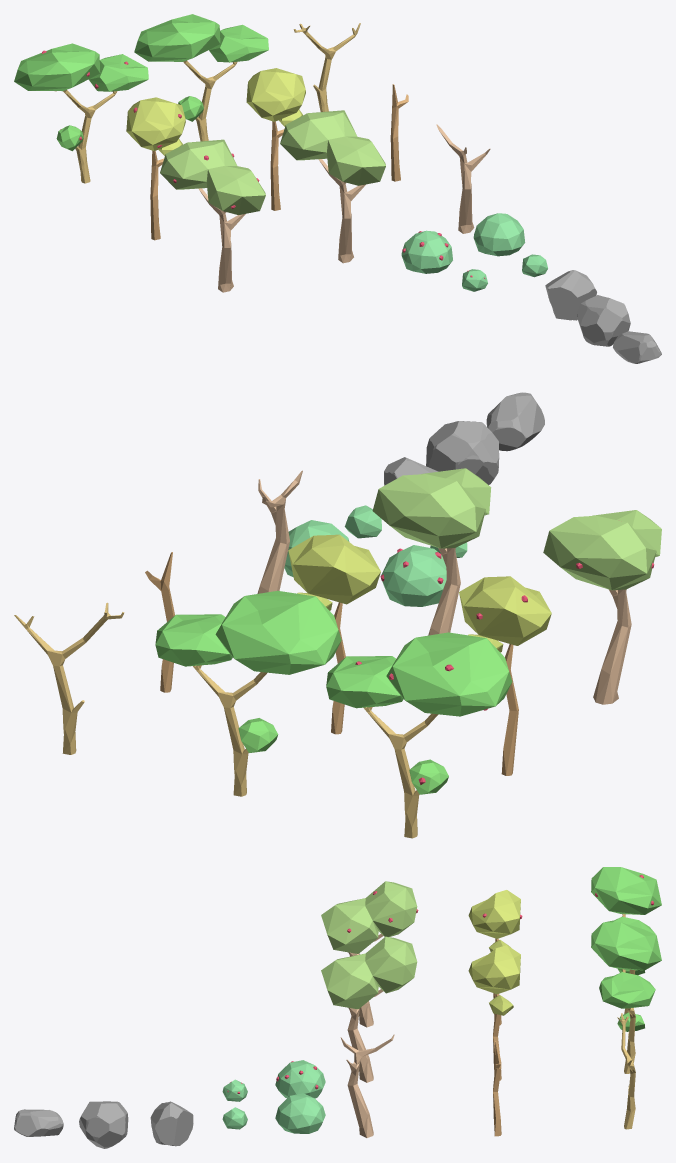
Rendered from preview.fbx.
3 views of the same model, one above another, from view 1: azimuth 30°, elevation 25°; view 2: azimuth 150°, elevation 25°; view 3: azimuth 270°, elevation 25° (orthographic). The views are drawn at different scales.
Visible parts, largest first — view 1: Tree_003_Crown_LOD0.001, Tree_003_Crown_LOD0.002, Tree_001_Crown_LOD0.002, Tree_001_Crown_LOD0.001, Tree_002_Crown_LOD0.002, Tree_002_Crown_LOD0.001, Rock_002_LOD0.001, Bush_002_LOD0.001, Bush_002_LOD0.002, Rock_001_LOD0.001, Tree_001_LOD0.003, Rock_003_LOD0.001 (+8 smaller); view 2: Tree_003_Crown_LOD0.002, Tree_003_Crown_LOD0.001, Tree_001_Crown_LOD0.002, Tree_001_Crown_LOD0.001, Tree_002_Crown_LOD0.002, Tree_002_Crown_LOD0.001, Rock_002_LOD0.001, Bush_002_LOD0.002, Rock_003_LOD0.001, Tree_003_LOD0.003, Tree_001_LOD0.001, Tree_001_LOD0.003 (+9 smaller); view 3: Tree_003_Crown_LOD0.002, Tree_001_Crown_LOD0.002, Tree_001_Crown_LOD0.001, Tree_003_Crown_LOD0.001, Tree_002_Crown_LOD0.002, Tree_002_Crown_LOD0.001, Rock_002_LOD0.001, Bush_002_LOD0.001, Rock_001_LOD0.001, Bush_002_LOD0.002, Tree_001_LOD0.003, Rock_003_LOD0.001 (+5 smaller).
Part boxes in pixels (x1=…): Tree_003_Crown_LOD0.001: x1=14, y1=43, x2=148, y2=151; Tree_003_Crown_LOD0.002: x1=134, y1=14, x2=268, y2=121; Tree_001_Crown_LOD0.002: x1=280, y1=110, x2=385, y2=185; Tree_001_Crown_LOD0.001: x1=160, y1=139, x2=265, y2=214; Tree_002_Crown_LOD0.002: x1=246, y1=68, x2=305, y2=126; Tree_002_Crown_LOD0.001: x1=126, y1=97, x2=185, y2=155; Rock_002_LOD0.001: x1=577, y1=295, x2=630, y2=346; Bush_002_LOD0.001: x1=473, y1=213, x2=525, y2=256; Bush_002_LOD0.002: x1=401, y1=230, x2=452, y2=273; Rock_001_LOD0.001: x1=545, y1=270, x2=596, y2=320; Tree_001_LOD0.003: x1=436, y1=124, x2=490, y2=233; Rock_003_LOD0.001: x1=613, y1=331, x2=661, y2=363; Tree_003_Crown_LOD0.002: x1=155, y1=590, x2=341, y2=752; Tree_003_Crown_LOD0.001: x1=326, y1=632, x2=512, y2=794; Tree_001_Crown_LOD0.002: x1=372, y1=468, x2=491, y2=548; Tree_001_Crown_LOD0.001: x1=543, y1=510, x2=661, y2=590; Tree_002_Crown_LOD0.002: x1=288, y1=534, x2=380, y2=610; Tree_002_Crown_LOD0.001: x1=459, y1=576, x2=551, y2=652; Rock_002_LOD0.001: x1=426, y1=421, x2=499, y2=484; Bush_002_LOD0.002: x1=381, y1=545, x2=446, y2=606; Rock_003_LOD0.001: x1=486, y1=392, x2=544, y2=451; Tree_003_LOD0.003: x1=14, y1=602, x2=124, y2=754; Tree_001_LOD0.001: x1=593, y1=589, x2=631, y2=704; Tree_001_LOD0.003: x1=257, y1=470, x2=302, y2=593; Tree_003_Crown_LOD0.002: x1=591, y1=922, x2=661, y2=1031; Tree_001_Crown_LOD0.002: x1=321, y1=936, x2=417, y2=1009; Tree_001_Crown_LOD0.001: x1=321, y1=881, x2=417, y2=953; Tree_003_Crown_LOD0.001: x1=591, y1=867, x2=661, y2=975; Tree_002_Crown_LOD0.002: x1=468, y1=945, x2=520, y2=1015; Tree_002_Crown_LOD0.001: x1=468, y1=890, x2=520, y2=951; Rock_002_LOD0.001: x1=79, y1=1101, x2=128, y2=1148; Bush_002_LOD0.001: x1=275, y1=1093, x2=325, y2=1133; Rock_001_LOD0.001: x1=150, y1=1101, x2=193, y2=1146; Bush_002_LOD0.002: x1=275, y1=1060, x2=325, y2=1098; Tree_001_LOD0.003: x1=340, y1=1034, x2=394, y2=1137; Rock_003_LOD0.001: x1=14, y1=1109, x2=63, y2=1136.
Bounding box in the file's own units: 1427 × 632 × 2474.
